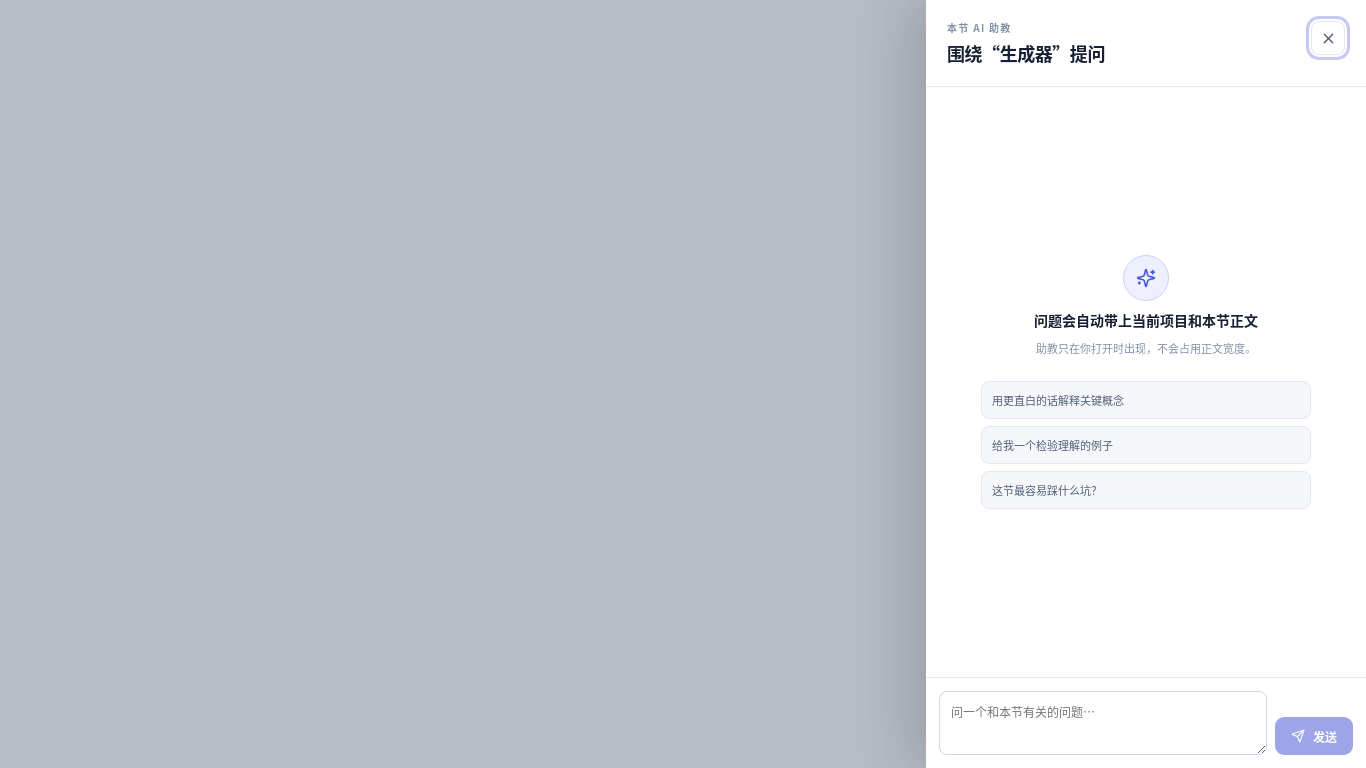
Test: node workbench AI › sends current project and node context through the real chat stream path
This screenshot has width=1366, height=768.
Click the button "用更直白的话解释关键概念".
click(1058, 400)  # box [981,381,1311,419]
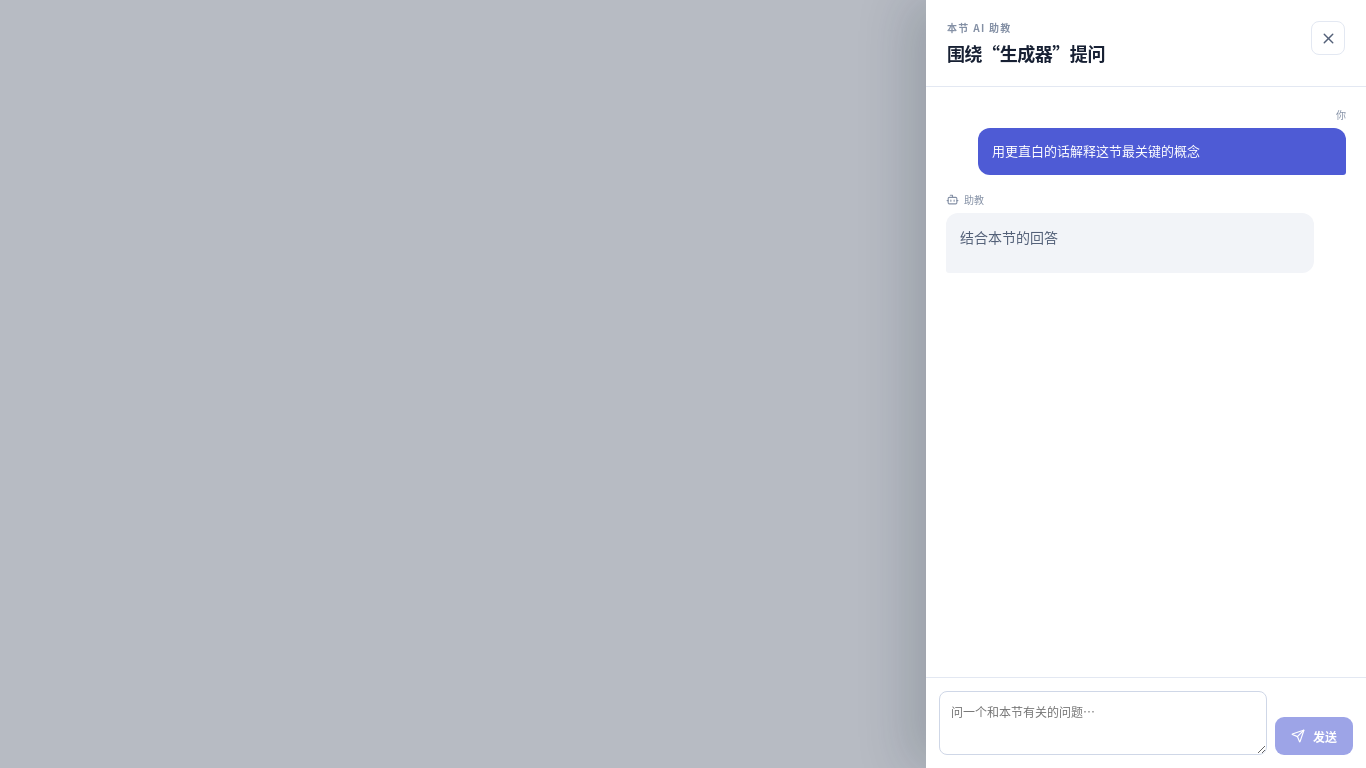
expect the text "结合本节的回答" is shown: met, box [960,227,1058,247]
